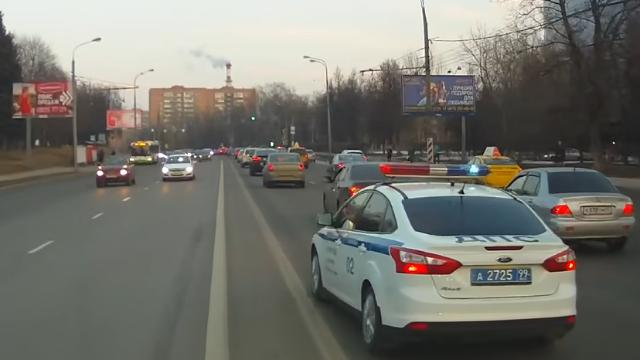non emergency car: (510, 167, 635, 249), (263, 154, 306, 188), (96, 156, 137, 186), (127, 139, 161, 165), (162, 156, 195, 180)
police car: (311, 164, 579, 347)
